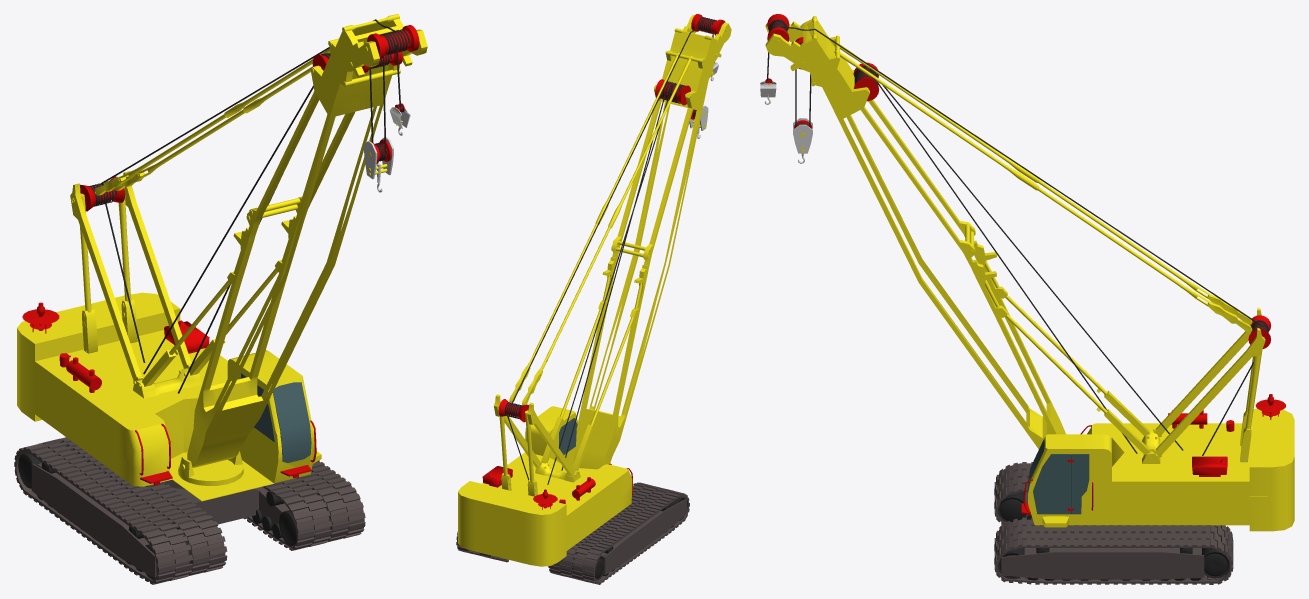
Rendered from crawler_crane_xcmg_xgc75.glb.
3 views of the same model, side by side, from view 1: azimuth 30°, elevation 25°; view 2: azimuth 150°, elevation 25°; view 3: azimuth 270°, elevation 25° (orthographic). The views are drawn at different scales.
Parts seen in each view (by area): view 1: Object018_03 - Default_0, Object021_03 - Default_0, Object015_04 - Default_0, Object018_01 - Default_0, Cylinder003, Plane006, Object018_02 - Default_0, Object015_01 - Default_0, Object018_Default_0; view 2: Object018_03 - Default_0, Object021_03 - Default_0, Object015_04 - Default_0, Object018_01 - Default_0, Object018_02 - Default_0, Cylinder003, Plane006, Object015_01 - Default_0; view 3: Object018_03 - Default_0, Object021_03 - Default_0, Object015_04 - Default_0, Object018_01 - Default_0, Plane006, Object015_01 - Default_0, Cylinder003, Object018_02 - Default_0, Object018_Default_0.
Boxes of the visible parts, x1,y1,x2,y2 form: Object018_03 - Default_0: (70, 14, 427, 485); Object021_03 - Default_0: (17, 292, 321, 501); Object015_04 - Default_0: (14, 437, 365, 584); Object018_01 - Default_0: (89, 19, 410, 393); Cylinder003: (22, 302, 316, 485); Plane006: (241, 373, 311, 462); Object018_02 - Default_0: (80, 25, 419, 211); Object015_01 - Default_0: (18, 446, 331, 579); Object018_Default_0: (85, 107, 410, 352); Object018_03 - Default_0: (494, 15, 731, 496); Object021_03 - Default_0: (458, 406, 632, 566); Object015_04 - Default_0: (456, 482, 689, 584); Object018_01 - Default_0: (504, 17, 717, 484); Object018_02 - Default_0: (498, 14, 725, 422); Cylinder003: (482, 463, 633, 509); Plane006: (559, 418, 577, 454); Object015_01 - Default_0: (571, 493, 687, 580); Object018_03 - Default_0: (765, 14, 1265, 463); Object021_03 - Default_0: (1028, 409, 1294, 531); Object015_04 - Default_0: (994, 462, 1233, 584); Object018_01 - Default_0: (766, 19, 1268, 455); Plane006: (1027, 439, 1089, 514); Object015_01 - Default_0: (998, 492, 1229, 580); Cylinder003: (1021, 394, 1285, 515); Object018_02 - Default_0: (765, 14, 1270, 348); Object018_Default_0: (760, 81, 1245, 462).
Size of the model in its own units: 2.83 by 8.31 by 7.71.
